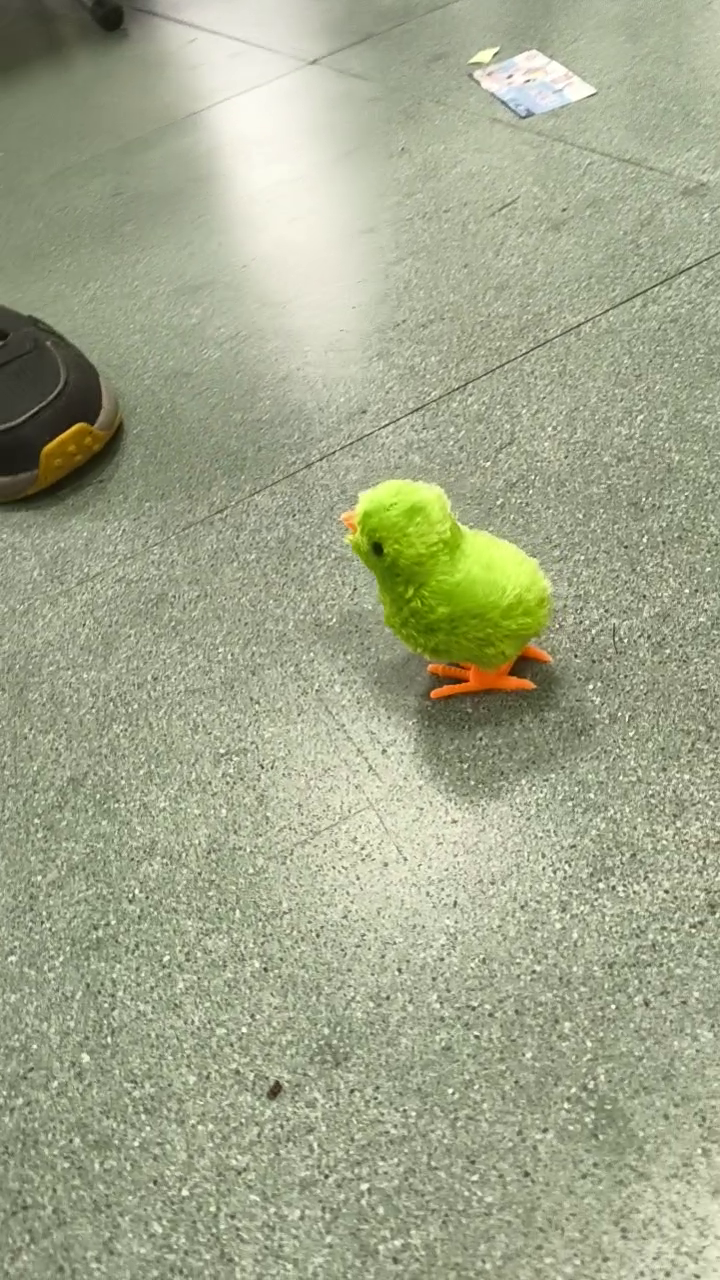green chicken: (339, 477, 566, 706)
